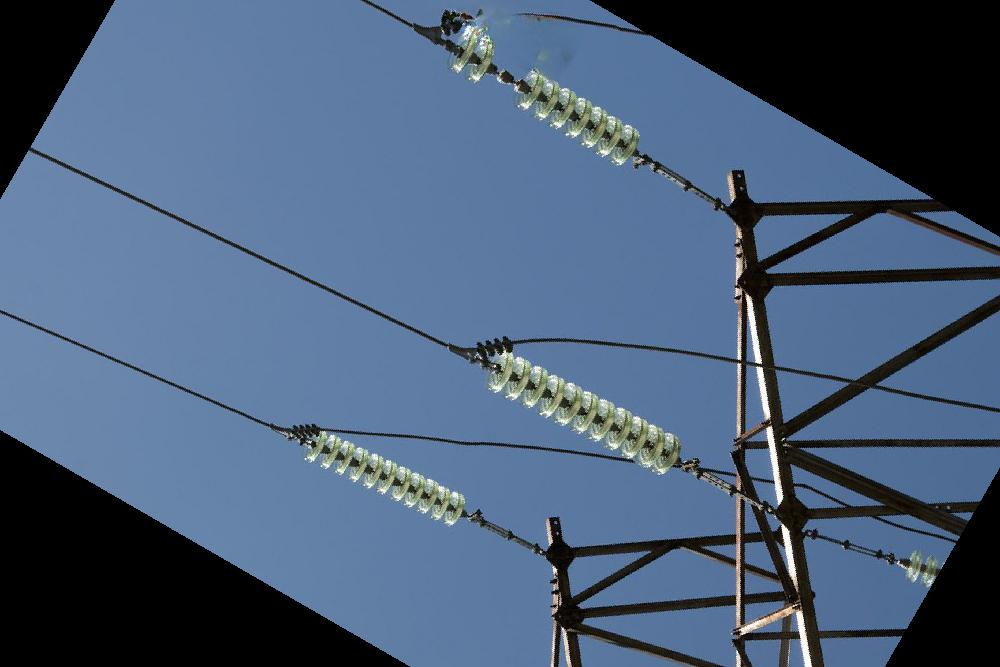insulator: (439, 22, 645, 172), (482, 347, 687, 483), (298, 426, 472, 535), (898, 547, 942, 593)
insulator_stringdrop: (466, 36, 548, 115)
